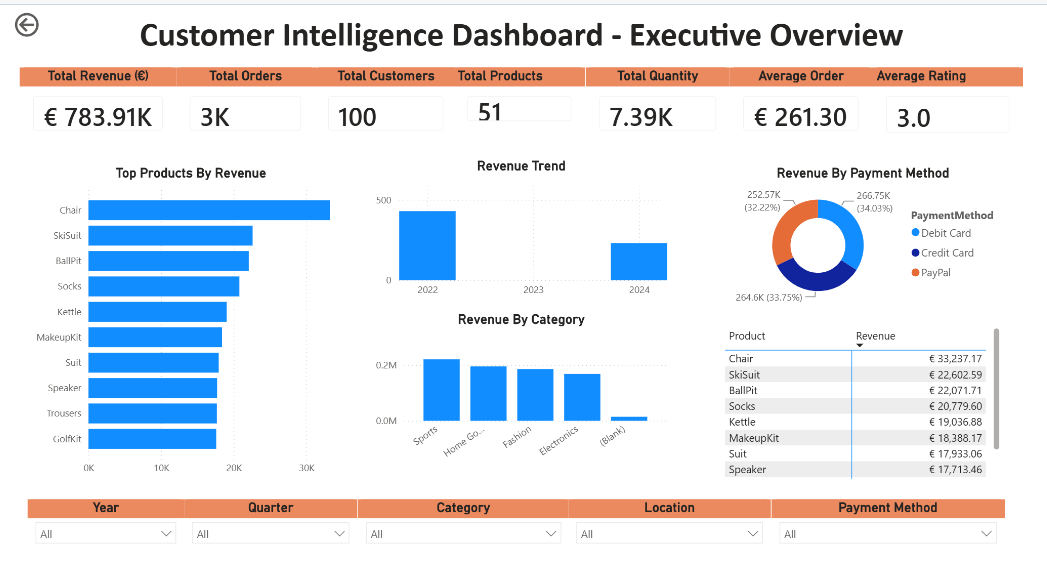

Layout of this report page (visuals, bound fields, positions):
{"tool":"powerbi","page":{"name":"📈 Executive Overview","canvas":[1280,720],"ordinal":0},"visuals":[{"type":"textbox","box":[10.6,0,1269.4,96.4],"z":0},{"type":"cardVisual","title":"Total Revenue (€)","fields":{"Data":["MeasuresTable.TotalRevenue"]},"box":[10.6,74,198.1,97.8],"z":1000},{"type":"cardVisual","title":"Average Order","fields":{"Data":["MeasuresTable.AverageOrderValue"]},"box":[908.8,74,181,97.8],"z":2000},{"type":"cardVisual","title":"Total Orders","fields":{"Data":["MeasuresTable.TotalOrders"]},"box":[208.7,74,175.7,97.8],"z":3000},{"type":"cardVisual","title":"Total Quantity","fields":{"Data":["MeasuresTable.TotalQuantity"]},"box":[726.5,74,182.3,97.8],"z":4000},{"type":"cardVisual","title":"Total Customers","fields":{"Data":["MeasuresTable.TotalCustomers"]},"box":[384.4,74,181,97.8],"z":5000},{"type":"cardVisual","title":"Total Products","fields":{"Data":["MeasuresTable.TotalProducts"]},"box":[560.1,74,166.4,85.9],"z":6000},{"type":"clusteredColumnChart","title":"Revenue Trend","fields":{"Category":["DimDate.YearNumber"],"Y":["MeasuresTable.TotalRevenue"]},"box":[455.7,187.6,379.1,184.9],"z":7000},{"type":"clusteredColumnChart","title":"Revenue By Category","fields":{"Category":["DimProduct.Category"],"Y":["MeasuresTable.TotalRevenue"]},"box":[455.7,381.8,379.1,200.8],"z":8000},{"type":"clusteredBarChart","title":"Top Products By Revenue","fields":{"Category":["DimProduct.ProductName"],"Y":["MeasuresTable.TotalRevenue"]},"box":[21.1,196.8,413.5,401.6],"z":9000},{"type":"donutChart","title":"Revenue By Payment Method","fields":{"Category":["FactSales.PaymentMethod"],"Y":["MeasuresTable.TotalRevenue"]},"box":[898.2,196.8,359.3,184.9],"z":10000},{"type":"slicer","title":"Year","fields":{"Values":["DimDate.YearNumber"]},"box":[21.1,619.5,198.1,91.1],"z":11000},{"type":"slicer","title":"Quarter","fields":{"Values":["DimDate.QuarterNumber"]},"box":[219.3,619.5,219.3,91.1],"z":12000},{"type":"slicer","title":"Category","fields":{"Values":["DimProduct.Category"]},"box":[438.6,619.5,266.8,91.1],"z":13000},{"type":"slicer","title":"Location","fields":{"Values":["DimCustomer.Location"]},"box":[705.4,619.5,256.3,91.1],"z":14000},{"type":"slicer","title":"Payment Method","fields":{"Values":["FactSales.PaymentMethod"]},"box":[961.7,619.5,294.6,91.1],"z":15000},{"type":"actionButton","box":[0,0,100,40],"z":16000},{"type":"cardVisual","title":"Average Rating","fields":{"Data":["MeasuresTable.AverageRating"]},"box":[1089.8,74,190.2,100.4],"z":17000},{"type":"pivotTable","title":"Product","fields":{"Rows":["DimProduct.ProductName"],"Values":["MeasuresTable.TotalRevenue"]},"box":[898.2,397.6,358,200.8],"z":18000}]}

Visuals, with their boxes in screenshot pixels (x1, y1, x2, y2), scaled from the page's 1280x720 canvas onto the 1047x578 screenshot:
textbox: BBox(9, 0, 1046, 77)
"Total Revenue (€)" cardVisual: BBox(9, 59, 171, 138)
"Average Order" cardVisual: BBox(743, 59, 891, 138)
"Total Orders" cardVisual: BBox(171, 59, 314, 138)
"Total Quantity" cardVisual: BBox(594, 59, 743, 138)
"Total Customers" cardVisual: BBox(314, 59, 462, 138)
"Total Products" cardVisual: BBox(458, 59, 594, 128)
"Revenue Trend" clusteredColumnChart: BBox(373, 151, 683, 299)
"Revenue By Category" clusteredColumnChart: BBox(373, 307, 683, 468)
"Top Products By Revenue" clusteredBarChart: BBox(17, 158, 355, 480)
"Revenue By Payment Method" donutChart: BBox(735, 158, 1029, 306)
"Year" slicer: BBox(17, 497, 179, 570)
"Quarter" slicer: BBox(179, 497, 359, 570)
"Category" slicer: BBox(359, 497, 577, 570)
"Location" slicer: BBox(577, 497, 787, 570)
"Payment Method" slicer: BBox(787, 497, 1028, 570)
actionButton: BBox(0, 0, 82, 32)
"Average Rating" cardVisual: BBox(891, 59, 1046, 140)
"Product" pivotTable: BBox(735, 319, 1028, 480)
